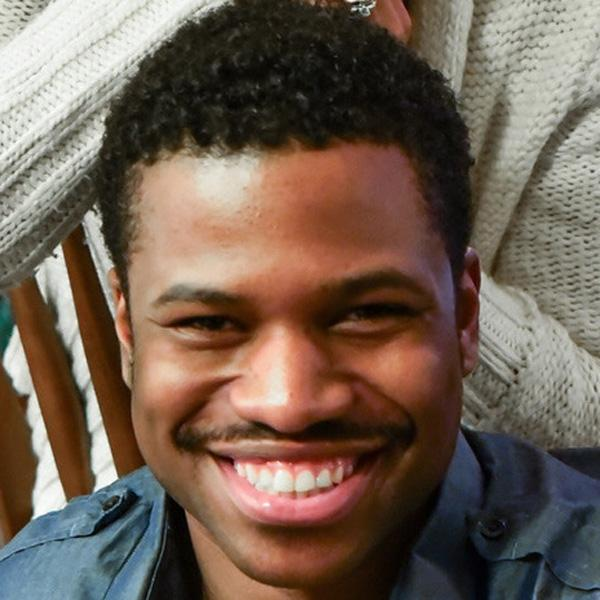Eyes: (319, 289, 424, 345), (154, 301, 249, 352)
